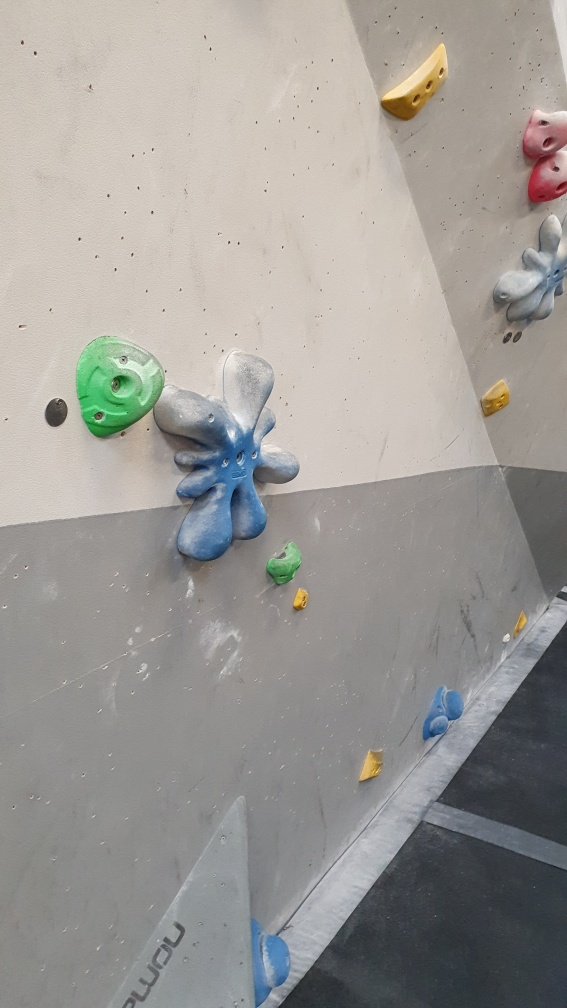Crimp: (379, 38, 453, 122)
Hand Start: (41, 395, 70, 430)
Jug: (73, 337, 164, 441), (520, 105, 567, 160), (527, 155, 567, 214), (271, 543, 305, 588)
Octopus Pinch: (154, 351, 303, 561), (491, 205, 567, 325)
Sloper: (241, 921, 293, 1007), (418, 682, 468, 742)
